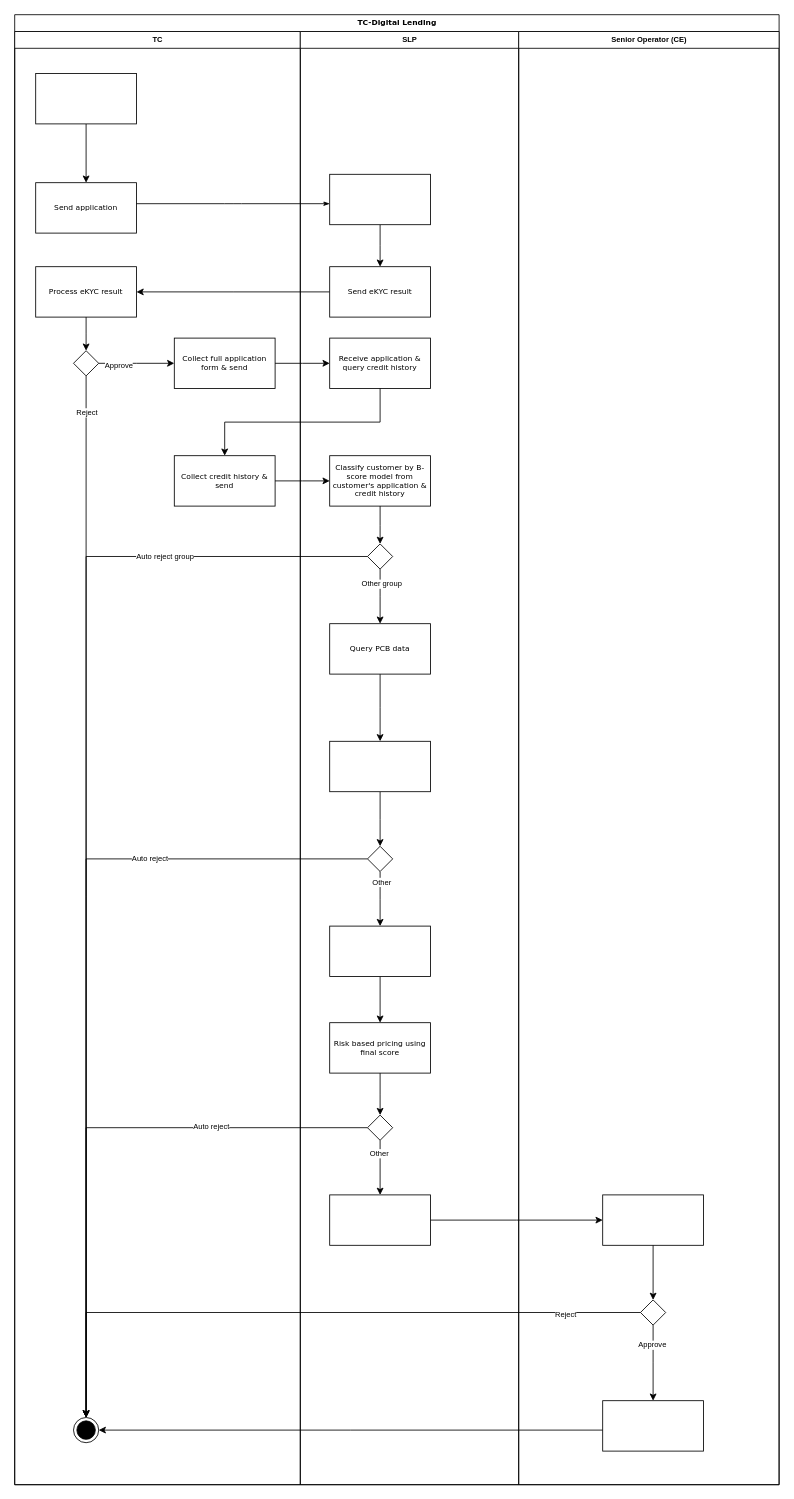
Some shapes in this 794 by 1499 pixel diagram are drawn without their labels. Each missing label, with the centre of its shape:
"Check & verify customer through phone Get final decision" goes at point (653, 1219).
"Check KYC & black/block list" goes at point (379, 199).
"Check policy by application and PCB data" goes at point (379, 766).
"Collect customer's information" goes at point (85, 98).
"E-contract cum e-service URL" goes at point (653, 1425).
"Product recalculation and final offer" goes at point (379, 1219).
"Scoring customer by General model (master model)" goes at point (379, 950).
